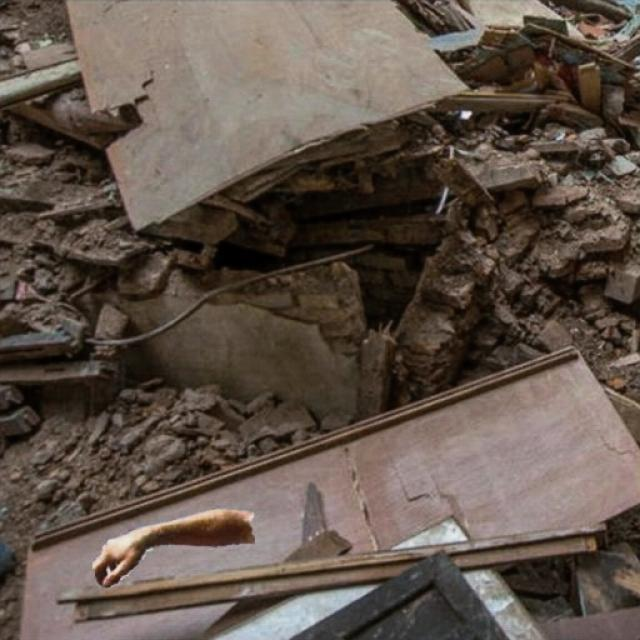Person in Rubble: (92, 508, 254, 586)
